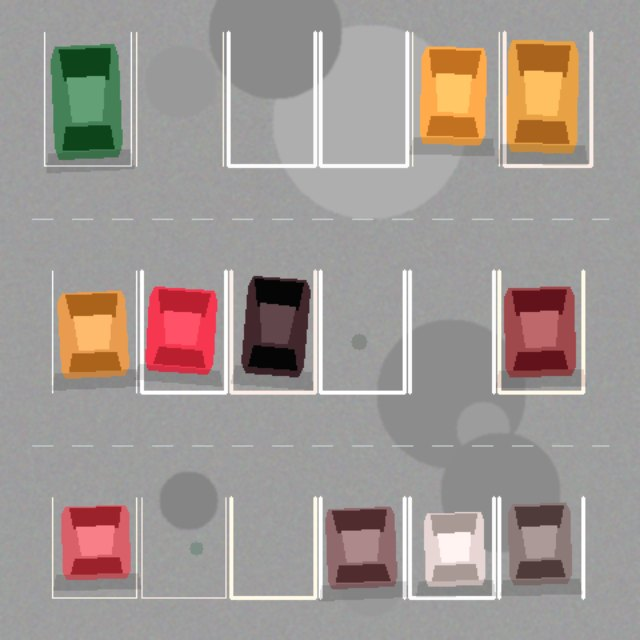space-empty: (136, 32, 223, 165), (228, 32, 315, 165), (320, 32, 407, 165), (320, 271, 404, 392), (409, 271, 493, 392), (141, 497, 225, 597), (231, 497, 315, 597)
space-occupied: (44, 32, 131, 165), (412, 32, 499, 165), (504, 32, 591, 165), (52, 271, 136, 392), (141, 271, 225, 392), (231, 271, 315, 392), (499, 271, 583, 392), (52, 497, 136, 597), (320, 497, 404, 597), (409, 497, 493, 597), (499, 497, 583, 597)
